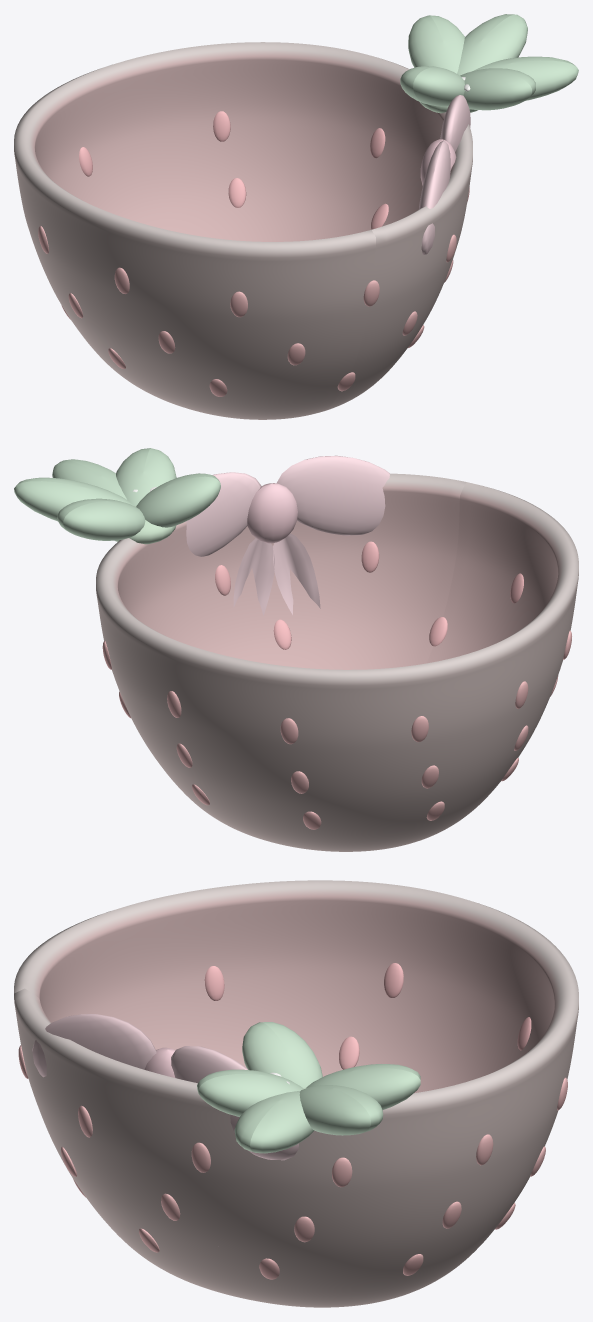
Rendered from mangkuk.glb.
The picture shows the model from 3 angles, top to bottom: view 1: azimuth 30°, elevation 25°; view 2: azimuth 150°, elevation 25°; view 3: azimuth 270°, elevation 25°; orthographic projection. The views are drawn at different scales.
Parts seen in each view (by area): view 1: mangkuk_stroberi; view 2: mangkuk_stroberi; view 3: mangkuk_stroberi.
Boxes of the visible parts, x1,y1,x2,y2 form: mangkuk_stroberi: [14, 14, 578, 419]; mangkuk_stroberi: [14, 448, 578, 851]; mangkuk_stroberi: [14, 880, 578, 1307].
Size of the model in its own units: 4.79 by 2.52 by 4.01.
